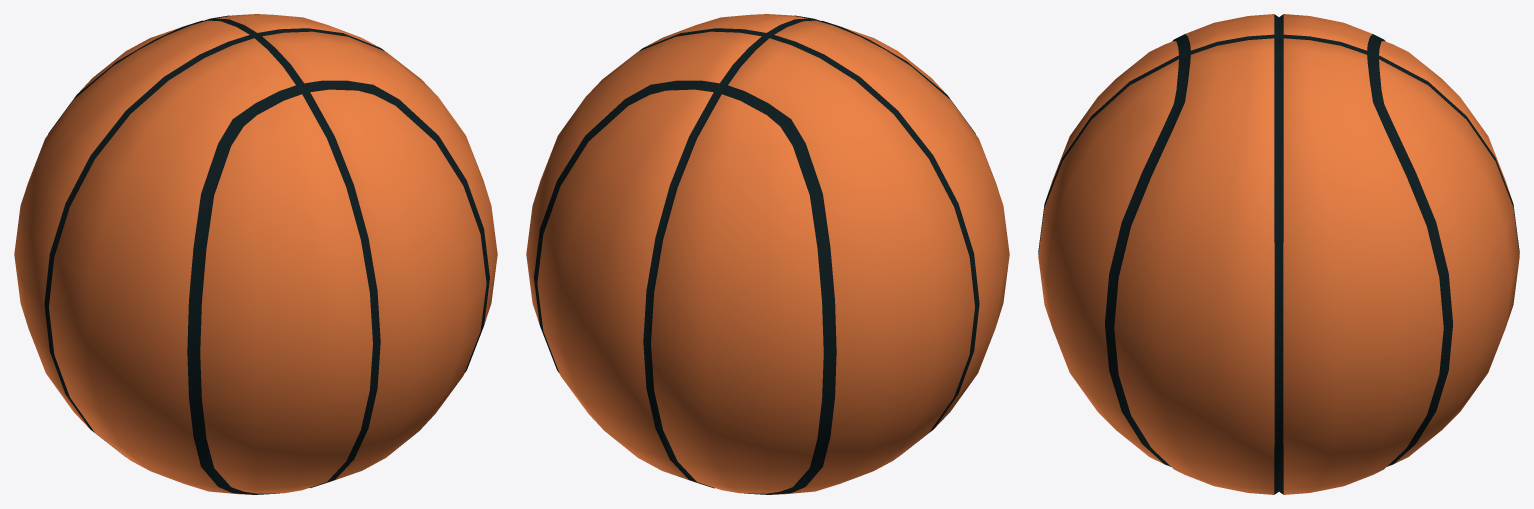
The model's file is basketball.glb.
The picture shows the model from 3 angles, left to right: view 1: azimuth 30°, elevation 25°; view 2: azimuth 150°, elevation 25°; view 3: azimuth 270°, elevation 25°; orthographic projection.
Parts seen in each view (by area): view 1: Basketball; view 2: Basketball; view 3: Basketball.
Boxes of the visible parts, bbox=[...] form: Basketball: bbox=[14, 14, 497, 494]; Basketball: bbox=[526, 14, 1009, 494]; Basketball: bbox=[1038, 14, 1519, 494].
Size of the model in its own units: 0.8586 by 0.8579 by 0.8586.
